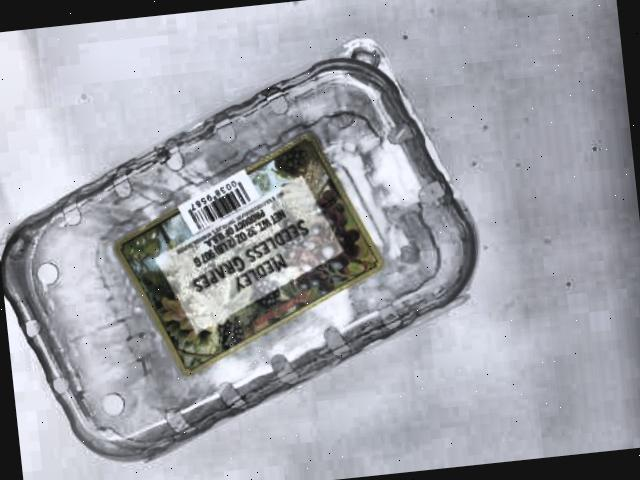Plastic: (0, 13, 510, 472)
